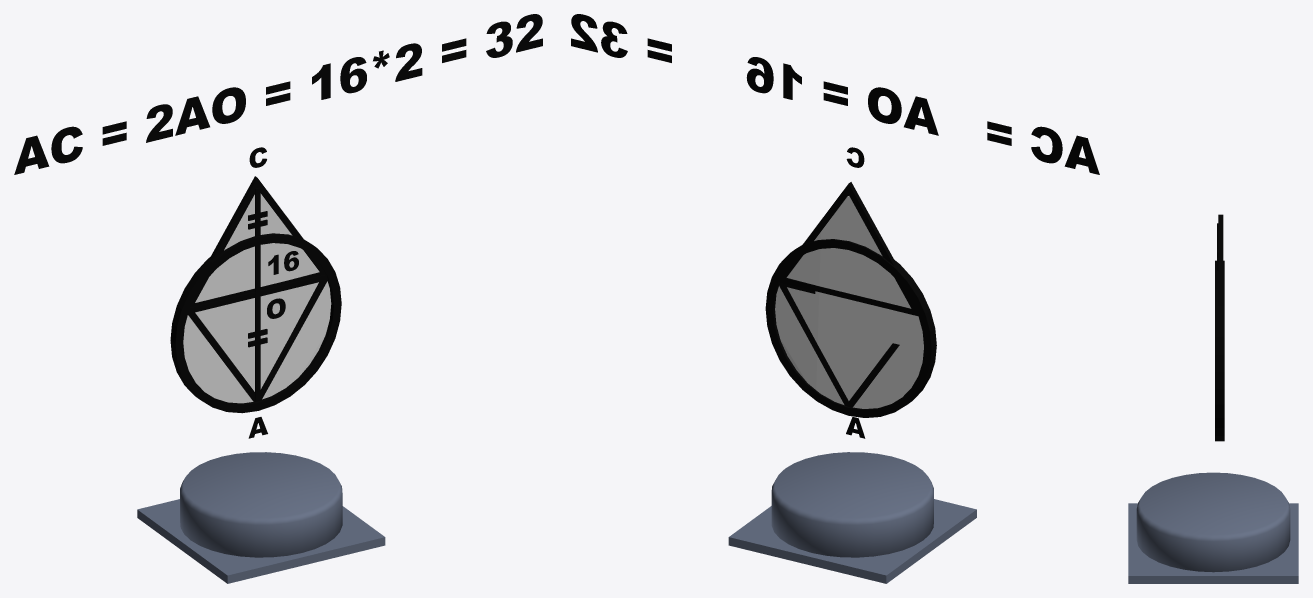
3 renders of one model, left to right at view 1: azimuth 30°, elevation 25°; view 2: azimuth 150°, elevation 25°; view 3: azimuth 270°, elevation 25°, orthographic. The views are drawn at different scales.
Visible parts, largest first — view 1: Cube.002, Cylinder, Text.007, Cube, Circle, Cone.001, Cone, Cube.001; view 2: Cube.002, Cylinder, Text.007, Cube, Circle, Cone, Cone.001; view 3: Cylinder, Cube, Circle, Cone.
Part boxes in pixels (box(x1,y1,x2,y2)): Cube.002: box(183, 193, 331, 403); Cylinder: box(180, 452, 342, 557); Text.007: box(14, 14, 542, 174); Cube: box(137, 499, 385, 583); Circle: box(170, 233, 341, 413); Cone.001: box(188, 274, 327, 401); Cone: box(190, 176, 325, 307); Cube.001: box(255, 187, 260, 401); Cube.002: box(775, 196, 923, 408); Cylinder: box(771, 452, 933, 557); Text.007: box(571, 14, 1099, 174); Cube: box(728, 499, 976, 583); Circle: box(765, 239, 936, 417); Cone: box(779, 182, 918, 315); Cone.001: box(779, 282, 899, 407); Cylinder: box(1136, 472, 1290, 572); Cube: box(1128, 503, 1298, 583); Circle: box(1215, 260, 1224, 441); Cone: box(1218, 214, 1223, 305).
Bounding box in the file's own units: 30.7 × 25.04 × 9.09.
